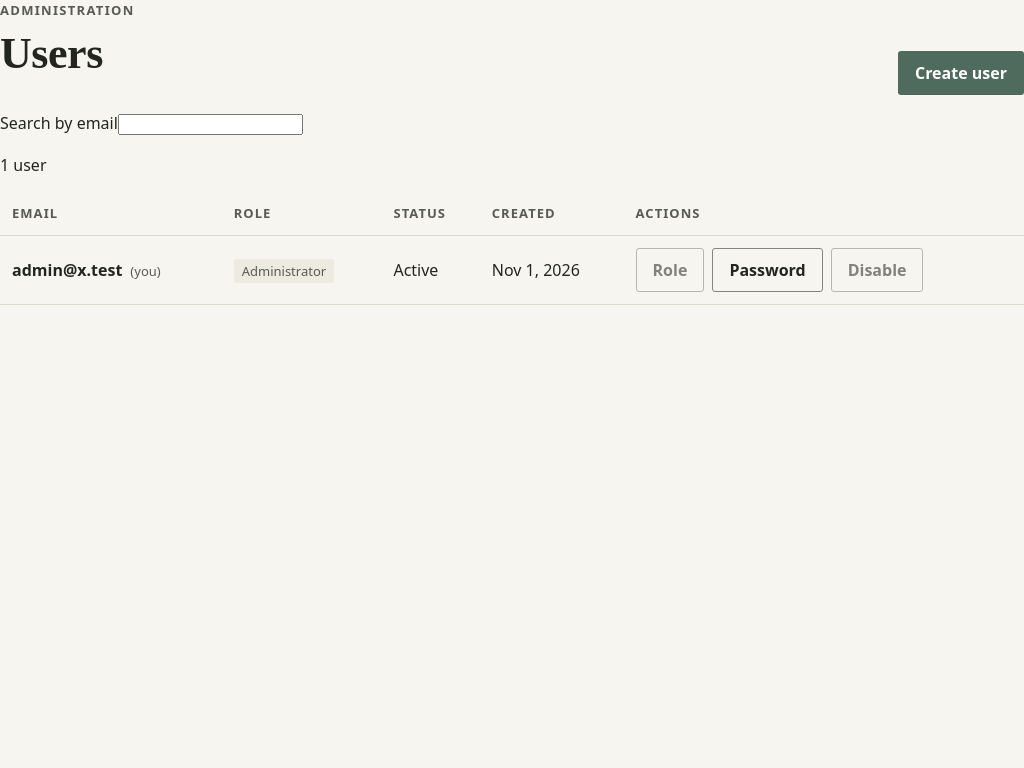
Test: UsersPage › validates the form and explains an email that is already taken
Expected: the text "admin@x.test" is shown, [12, 259, 122, 281]
Click the button "Create user".
click(961, 73)  # box [898, 51, 1023, 95]
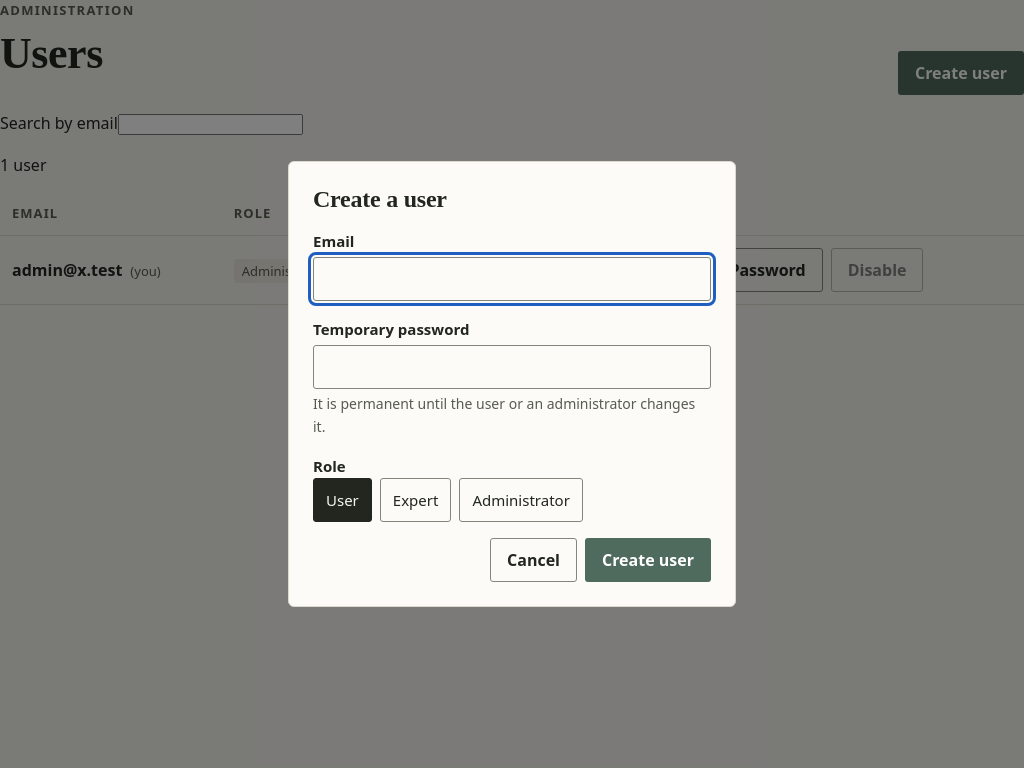
Click the button "Create user".
click(648, 560)  # box [585, 538, 711, 582]
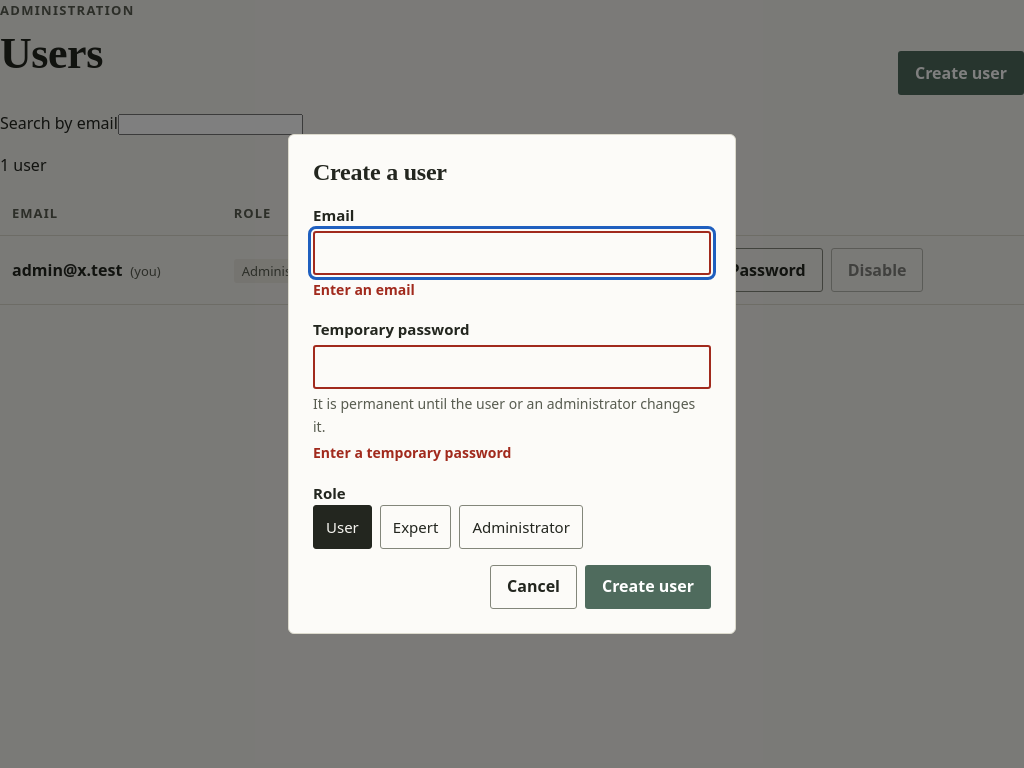
Result: the text "Enter an email" is shown at [313, 280, 415, 299]
Result: the text "Enter a temporary password" is shown at [313, 443, 511, 462]
Type "ann@x.test" into the field labelled "Email".
click(512, 253); type("ann@x.test")  # box [313, 231, 711, 275]
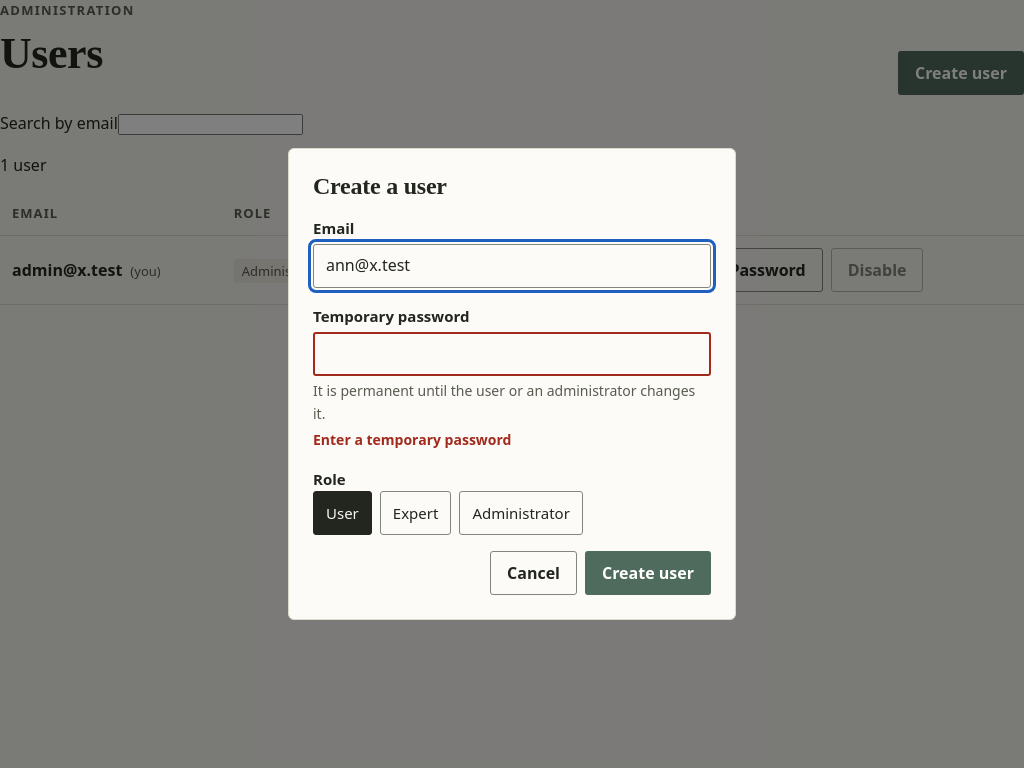
Type "Secret-123!" into the password field labelled "Temporary password".
click(512, 354); type("Secret-123!")  # box [313, 332, 711, 376]
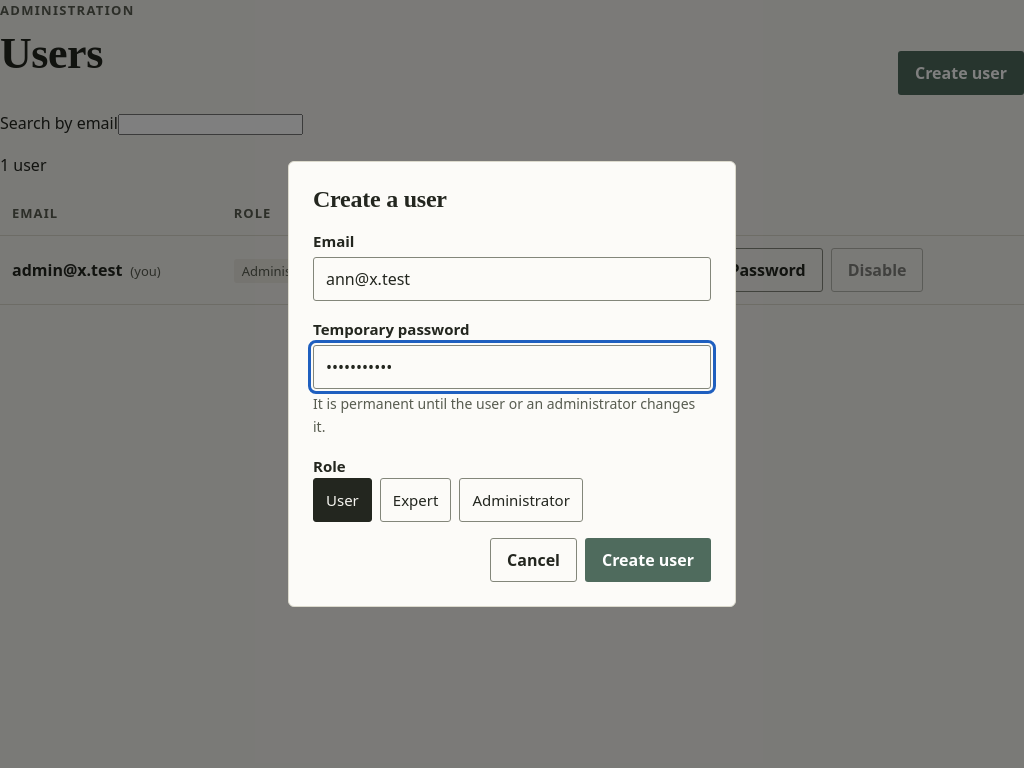
Click the button "Create user".
click(648, 560)  # box [585, 538, 711, 582]
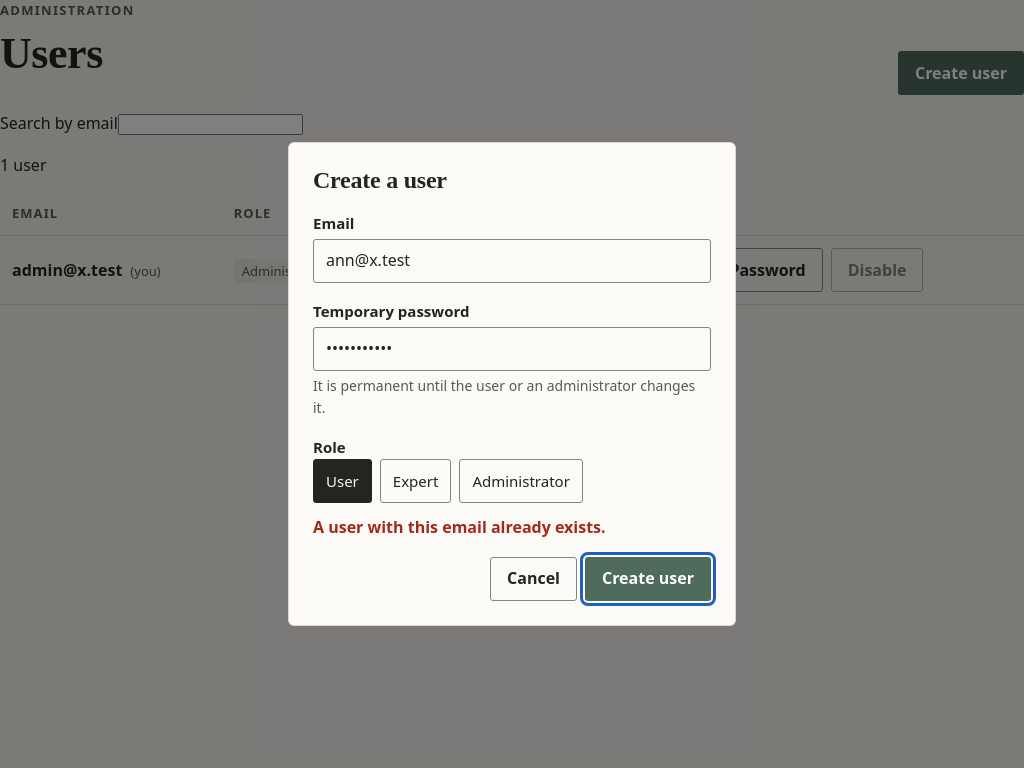
Result: the message "A user with this email already exists." is shown at [313, 516, 606, 538]
